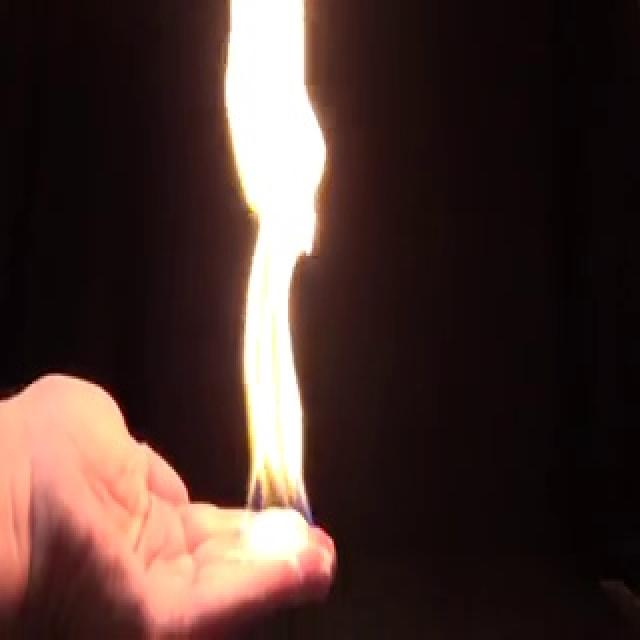fire: (215, 0, 335, 554)
